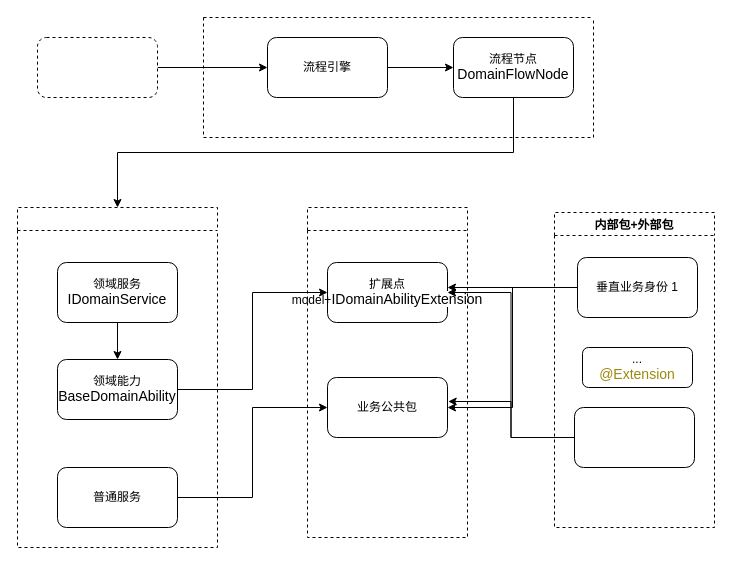
Some shapes in this 732 by 565 pixel diagram are drawn without their labels. Each missing label, with the box of its shape:
业务api工程: (306, 206, 468, 538)
业务核心工程: (16, 206, 218, 548)
入口 JSF/HTTP: (36, 36, 158, 98)
垂直业务身份 n: (574, 406, 694, 468)
